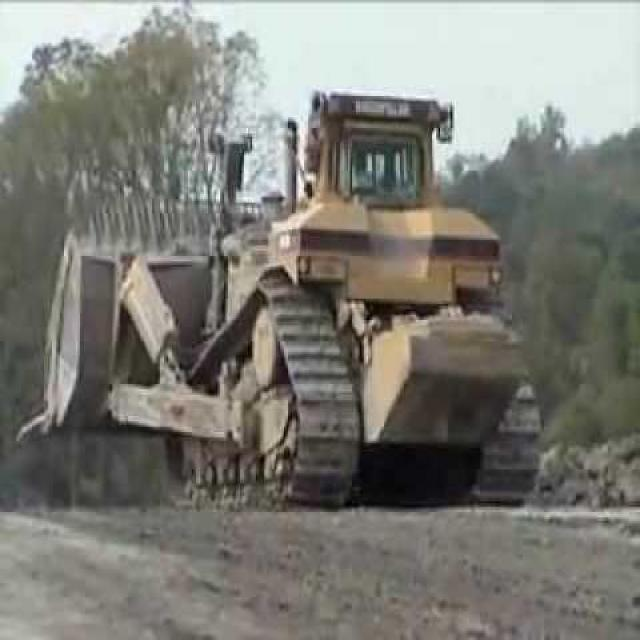Bulldozer: (39, 60, 556, 512)
